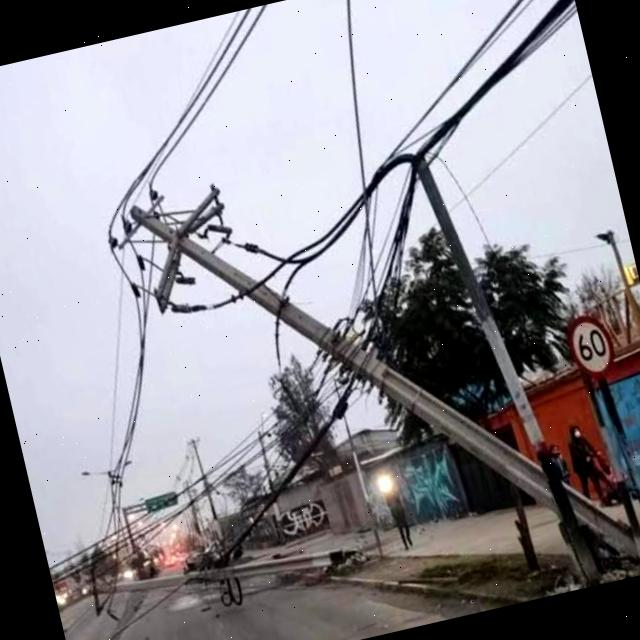Broken Pole: (98, 180, 640, 570)
